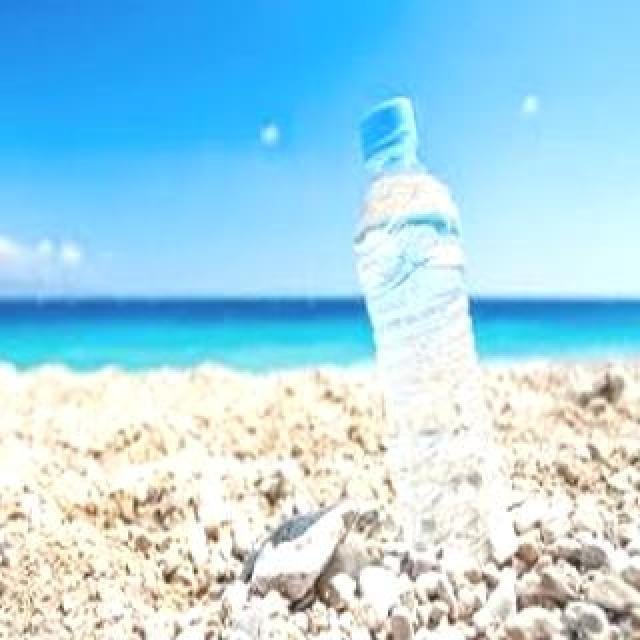Pet_Bottle: (352, 96, 516, 572)
